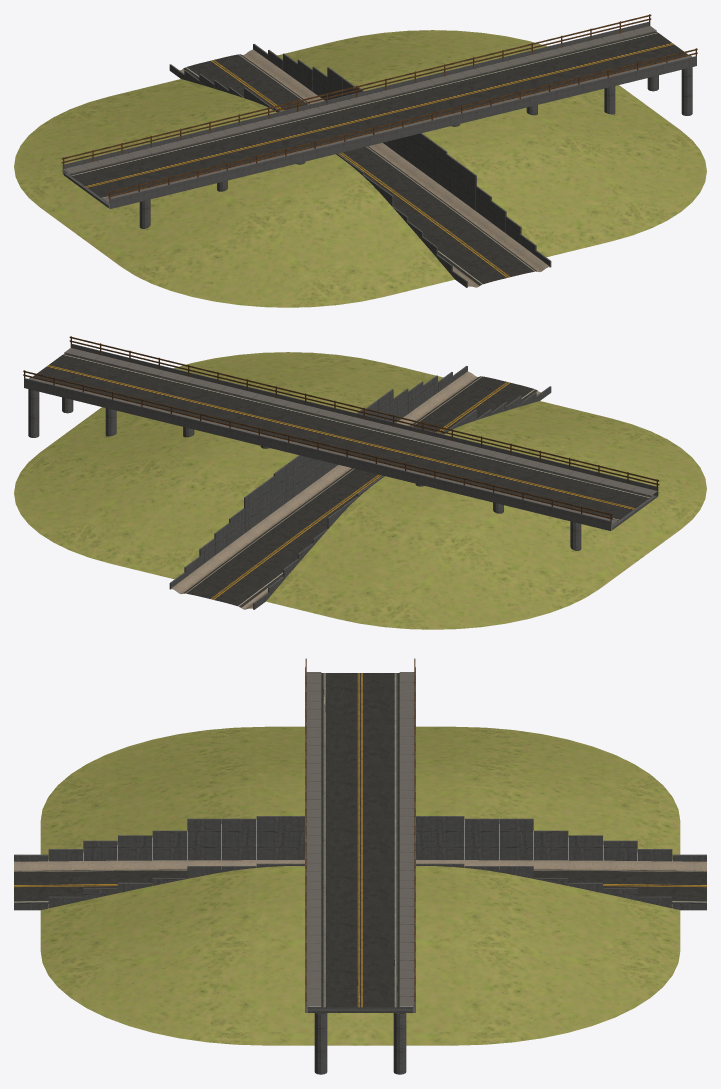
File: m_lm-overpass.glb
3 renders of one model, top to bottom at view 1: azimuth 30°, elevation 25°; view 2: azimuth 150°, elevation 25°; view 3: azimuth 270°, elevation 25°, orthographic. The views are drawn at different scales.
Parts seen in each view (by area): view 1: Material2 (×7); view 2: Material2 (×7); view 3: Material2 (×7).
Part boxes in pixels (x1=…): Material2 (×7): x1=14, y1=14, x2=706, y2=307; Material2 (×7): x1=14, y1=336, x2=706, y2=629; Material2 (×7): x1=14, y1=658, x2=706, y2=1074.
Bounding box in the file's own units: 3528 × 393 × 3052.
8 materials, 8 textured.
